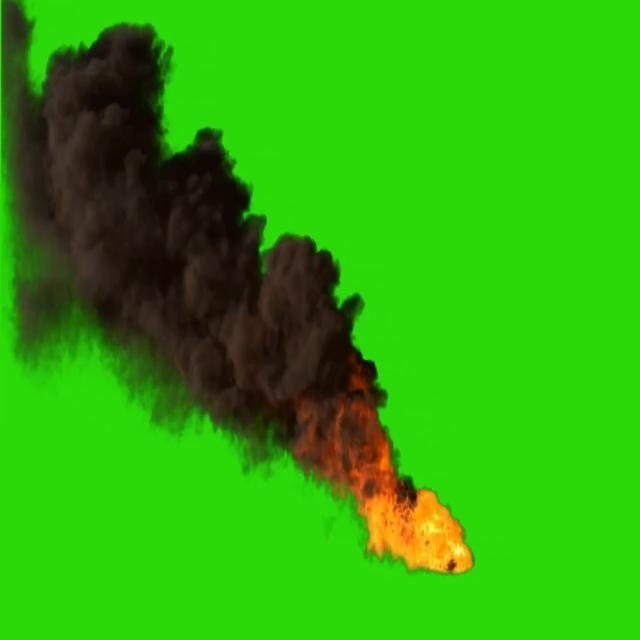Fire: (352, 486, 472, 568)
Smoke: (12, 21, 356, 473)
